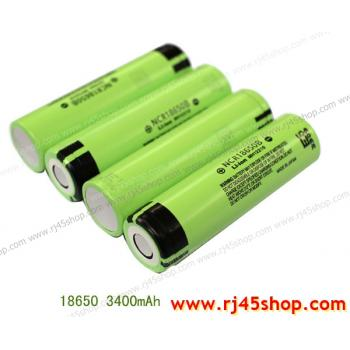Battery: (118, 112, 322, 277)
